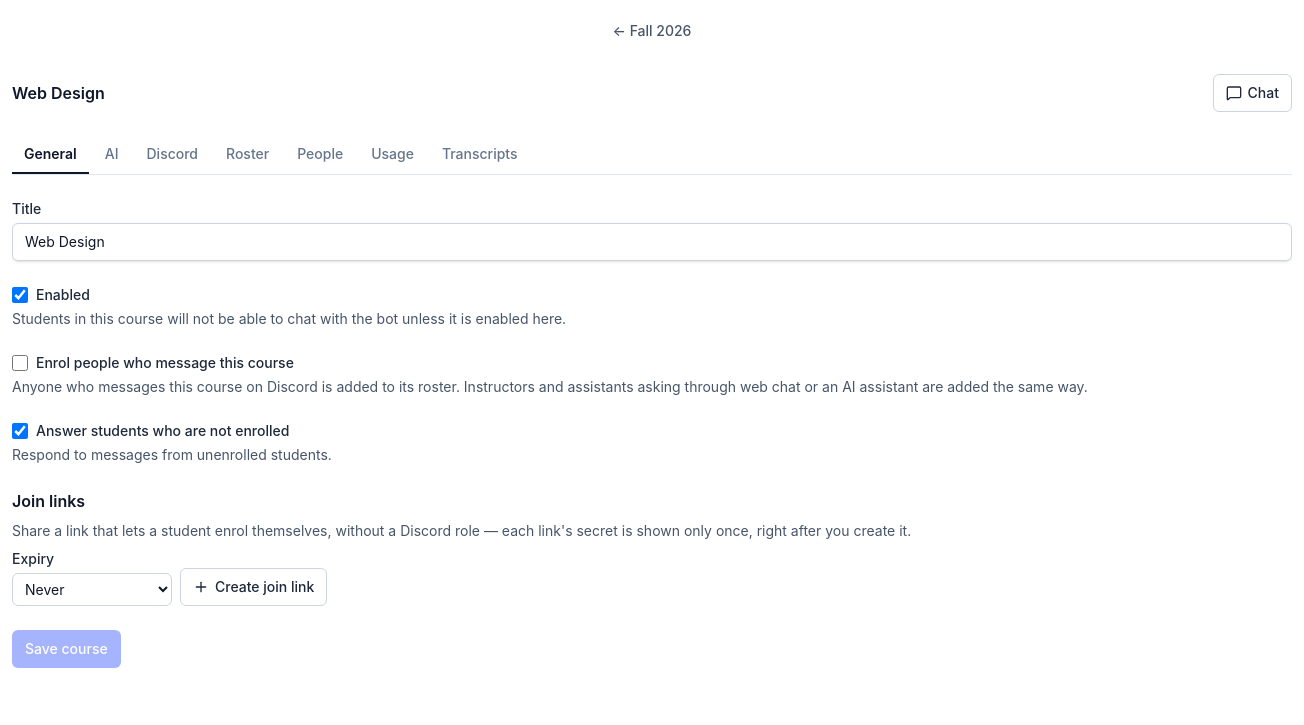
it: CourseEditor Save button reflects dirtiness (WEB-43) › never shows Saved after a failed save
The width and height of the screenshot is (1304, 725).
Replace the text in the field labelled "Title" with "Web Design II": [652, 242] box [12,223,1292,261]
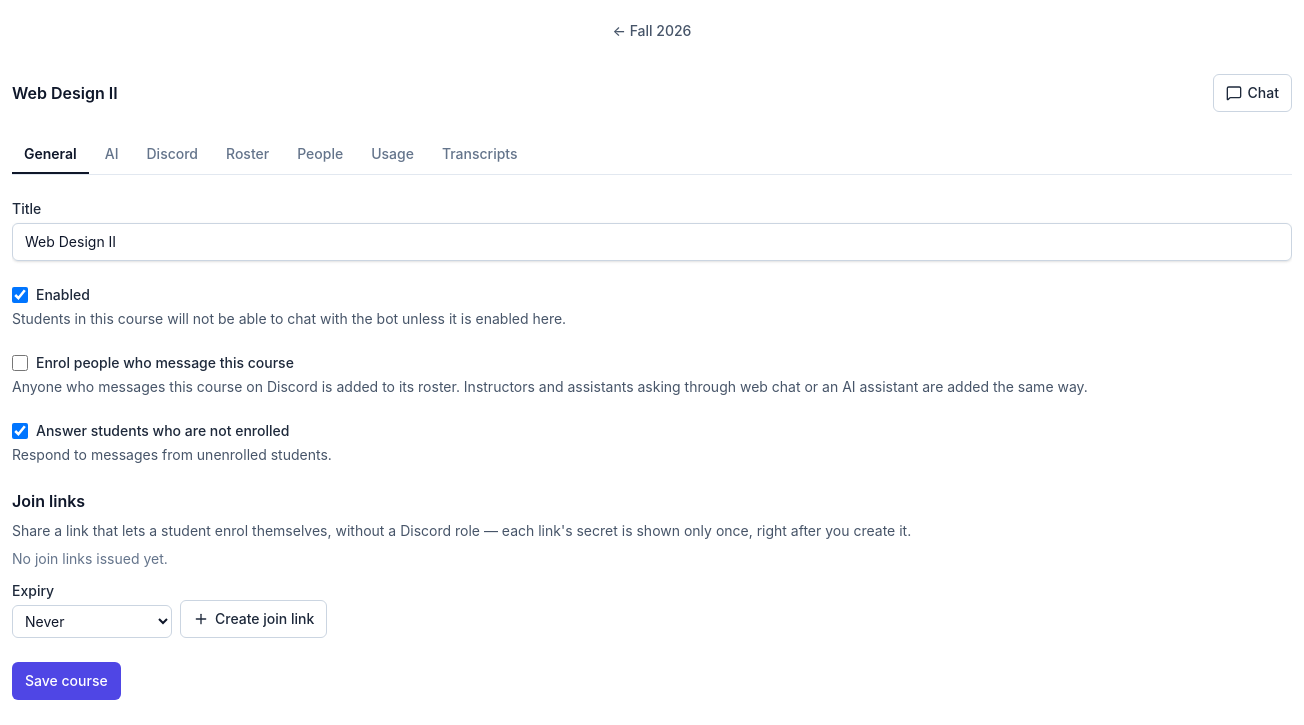
Click the button "Save course": [66, 681] box [12,662,121,700]
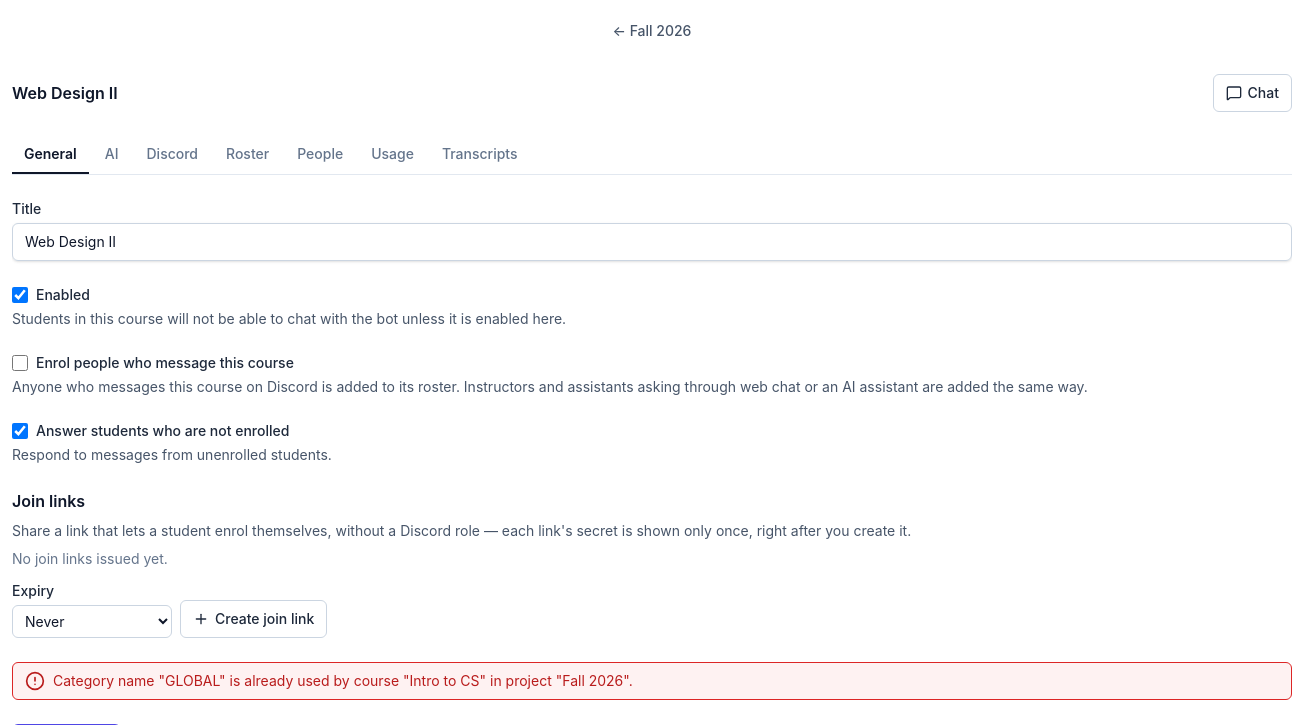
Expected: the message is shown, [12,662,1292,700]
